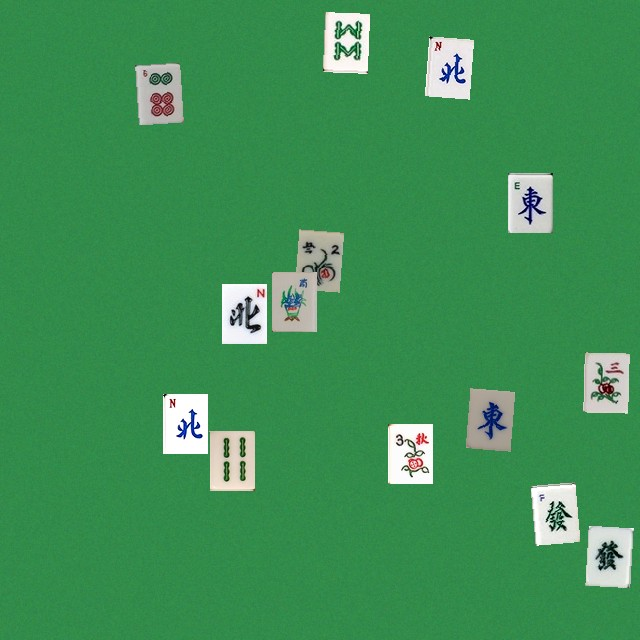tile: (424, 36, 469, 96), (583, 352, 628, 412), (294, 229, 339, 289), (387, 423, 432, 483), (271, 271, 316, 331), (322, 12, 367, 72), (465, 388, 510, 448), (135, 62, 180, 122), (507, 172, 552, 232), (585, 525, 630, 585), (221, 283, 266, 343), (162, 393, 207, 453), (209, 430, 254, 490), (530, 482, 575, 542)
